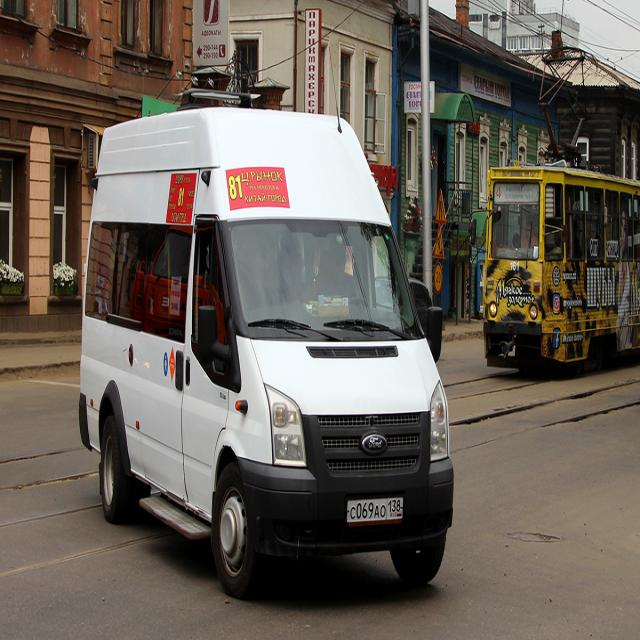number-of-bus: (228, 173, 245, 203), (179, 188, 186, 208)
